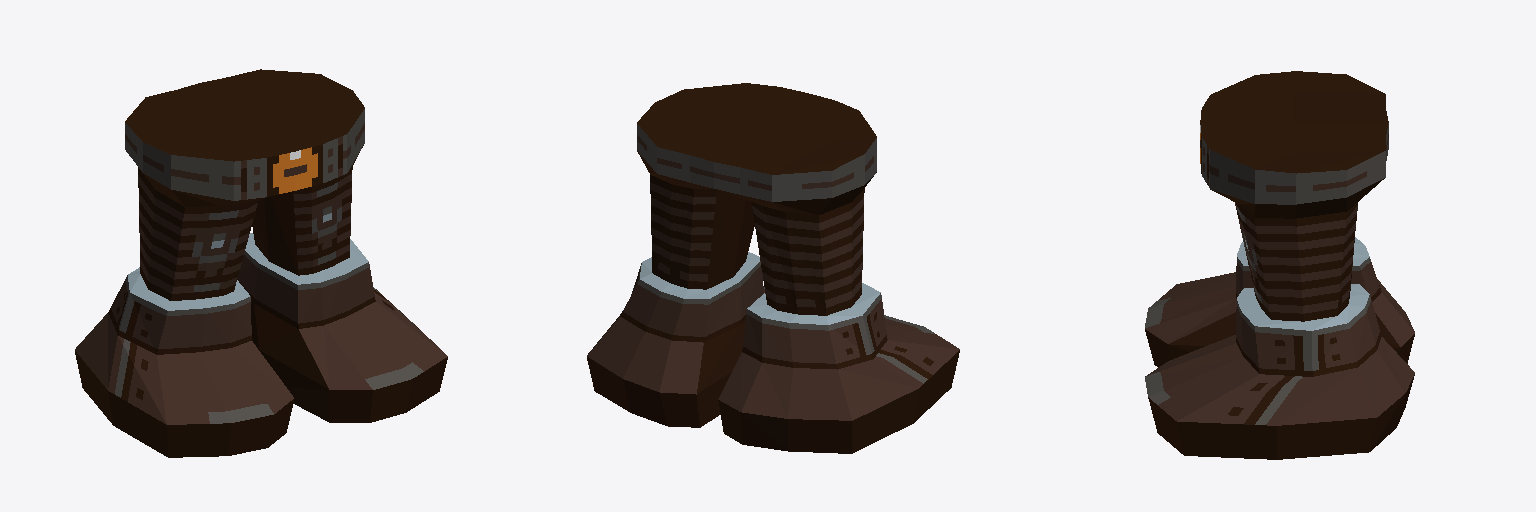
3 renders of one model, left to right at view 1: azimuth 30°, elevation 25°; view 2: azimuth 150°, elevation 25°; view 3: azimuth 270°, elevation 25°, orthographic.
Visible parts, largest first — view 1: Cube.002; view 2: Cube.002; view 3: Cube.002.
Part boxes in pixels (left/top/right/bottom): Cube.002: left=75, top=69, right=447, bottom=457; Cube.002: left=587, top=83, right=959, bottom=453; Cube.002: left=1145, top=71, right=1414, bottom=459.
Bounding box in the file's own units: 0.7735 × 0.6604 × 0.6061.
1 materials, 1 textured.